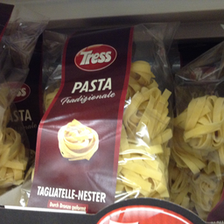pasta: (28, 29, 174, 212)
